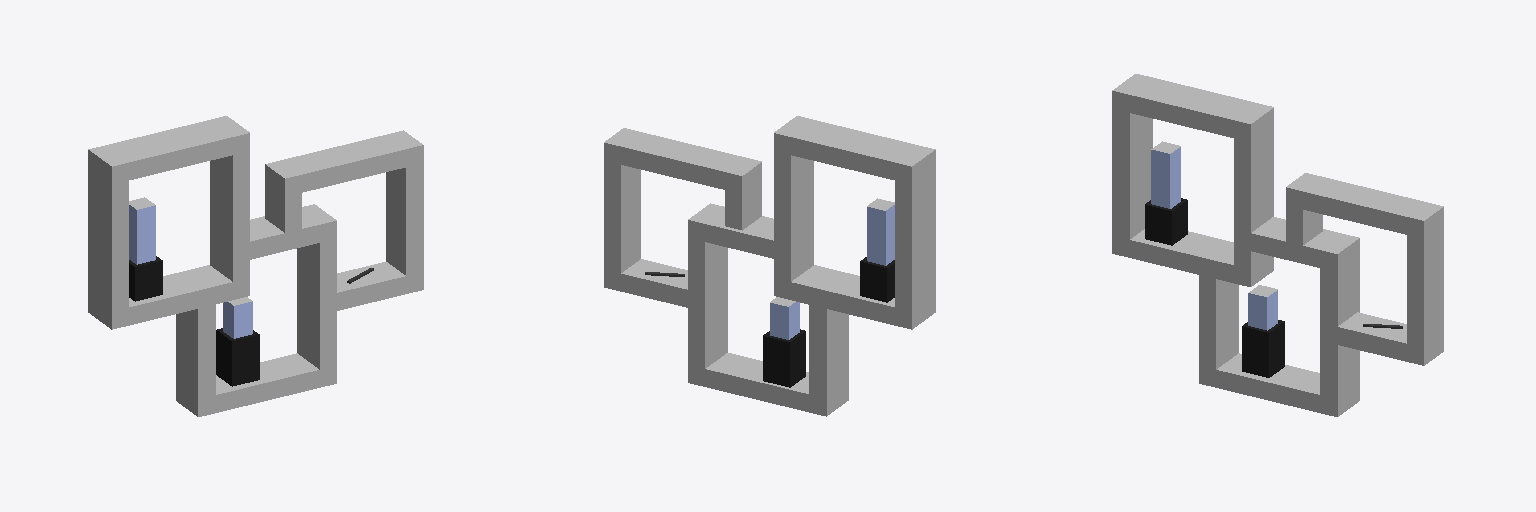
The picture shows the model from 3 angles: view 1: azimuth 30°, elevation 25°; view 2: azimuth 150°, elevation 25°; view 3: azimuth 330°, elevation 25°; orthographic projection.
Parts seen in each view (by area): view 1: cube.134, cube.131, cube.137, cube.135, cube.128, cube.132, cube.136, cube.126, cube.129, cube.127, cube.150, cube.149 (+4 smaller); view 2: cube.134, cube.131, cube.137, cube.135, cube.128, cube.132, cube.136, cube.129, cube.126, cube.127, cube.150, cube.149 (+4 smaller); view 3: cube.134, cube.131, cube.135, cube.128, cube.137, cube.132, cube.126, cube.136, cube.129, cube.127, cube.150, cube.149 (+4 smaller).
Part boxes in pixels (x1,y1,x2,y2): cube.134: (88,116,249,184); cube.131: (265,130,423,196); cube.137: (88,168,128,327); cube.135: (210,151,249,299); cube.128: (297,239,336,384); cube.132: (386,163,423,293); cube.136: (88,265,232,329); cube.126: (176,353,336,416); cube.129: (176,305,215,416); cube.127: (250,204,336,259); cube.150: (337,262,423,310); cube.149: (129,197,155,264); cube.134: (774,116,935,184); cube.131: (604,128,761,193); cube.137: (895,168,935,329); cube.135: (774,151,813,299); cube.128: (688,238,727,385); cube.132: (604,161,640,291); cube.136: (791,265,935,329); cube.129: (809,305,848,415); cube.126: (688,353,848,416); cube.127: (688,203,773,258); cube.150: (604,259,687,307); cube.149: (867,198,894,265); cube.134: (1112,74,1273,141); cube.131: (1286,173,1443,238); cube.135: (1234,126,1273,286); cube.128: (1320,256,1359,416); cube.137: (1112,109,1152,255); cube.132: (1407,225,1443,365); cube.126: (1199,353,1359,416); cube.136: (1112,229,1233,282); cube.129: (1199,275,1238,384); cube.127: (1251,217,1359,271); cube.150: (1338,312,1443,365); cube.149: (1151,141,1180,208).
Size of the model in its own units: 1.12 by 0.9375 by 0.1469.
5 materials, 2 textured.